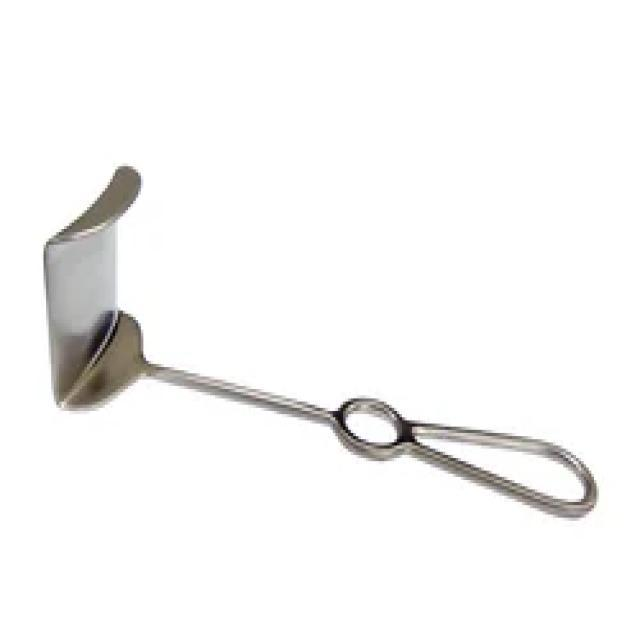Morris Retractor: (29, 155, 616, 541)
